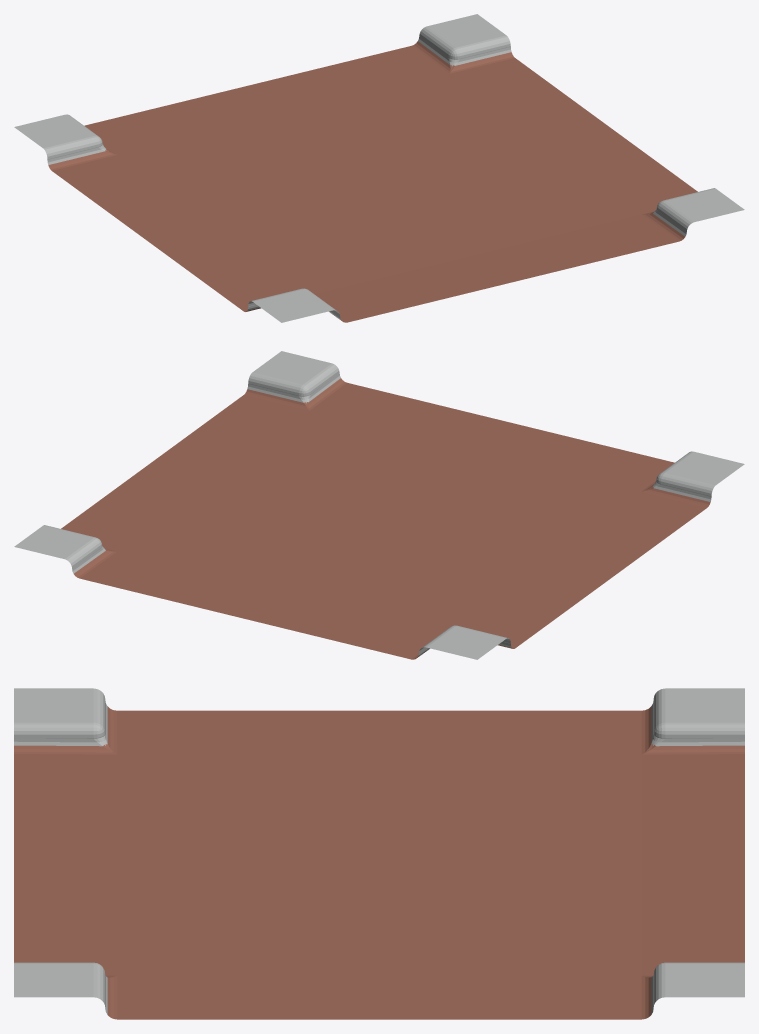
The model's file is Road_Cross.fbx.
3 views of the same model, one above another, from view 1: azimuth 30°, elevation 25°; view 2: azimuth 150°, elevation 25°; view 3: azimuth 270°, elevation 25° (orthographic). The views are drawn at different scales.
Visible parts, largest first — view 1: Plan.004; view 2: Plan.004; view 3: Plan.004.
Part boxes in pixels (bbox=[...]): Plan.004: bbox=[14, 14, 744, 322]; Plan.004: bbox=[14, 351, 744, 659]; Plan.004: bbox=[14, 688, 744, 1019].
Bounding box in the file's own units: 800 × 26.84 × 800.
